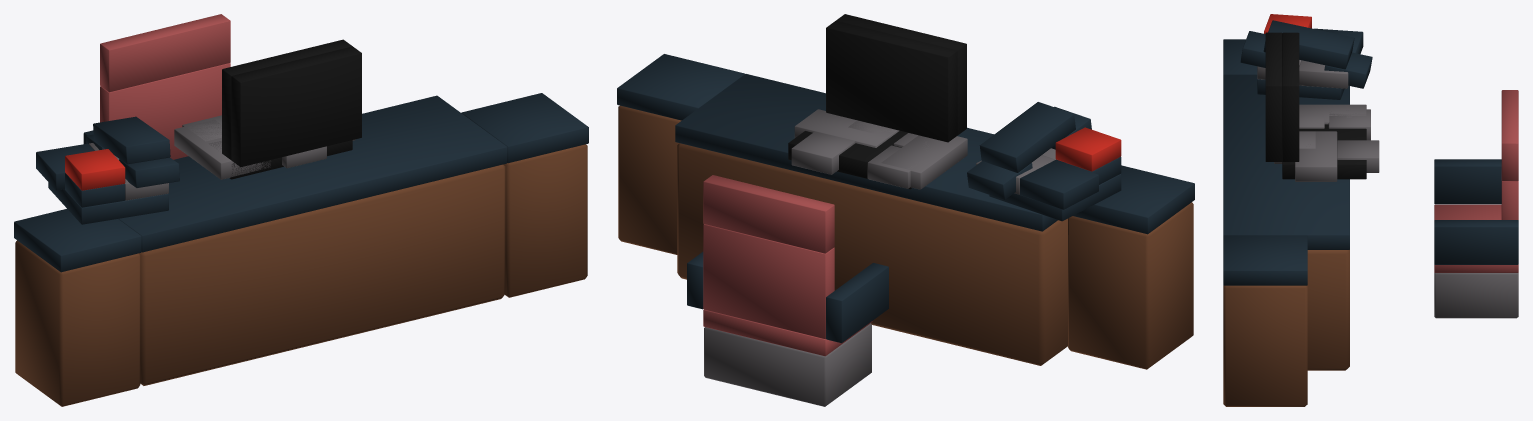
Rendered from Prop_OfficeDeskLaptop.glb.
The picture shows the model from 3 angles, left to right: view 1: azimuth 30°, elevation 25°; view 2: azimuth 150°, elevation 25°; view 3: azimuth 270°, elevation 25°; orthographic projection. The views are drawn at different scales.
Parts seen in each view (by area): view 1: Prop_OfficeDeskLaptop; view 2: Prop_OfficeDeskLaptop; view 3: Prop_OfficeDeskLaptop.
Boxes of the visible parts, x1,y1,x2,y2 form: Prop_OfficeDeskLaptop: [14, 14, 588, 406]; Prop_OfficeDeskLaptop: [617, 14, 1194, 406]; Prop_OfficeDeskLaptop: [1223, 14, 1518, 406].
Size of the model in its own units: 3.64 by 1.71 by 1.96.
